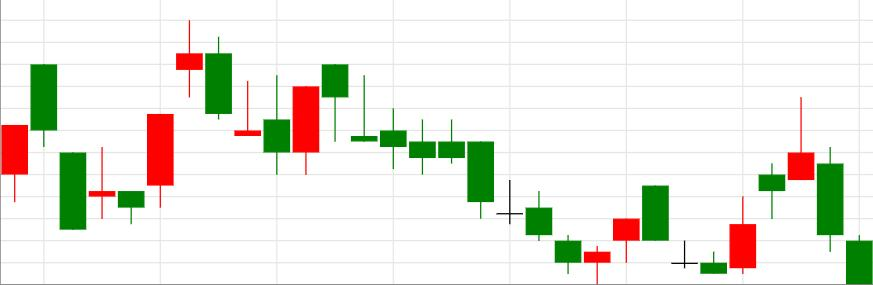hanging_man_fall: (262, 65, 348, 175)
shooting_star_fall: (699, 97, 816, 274)
